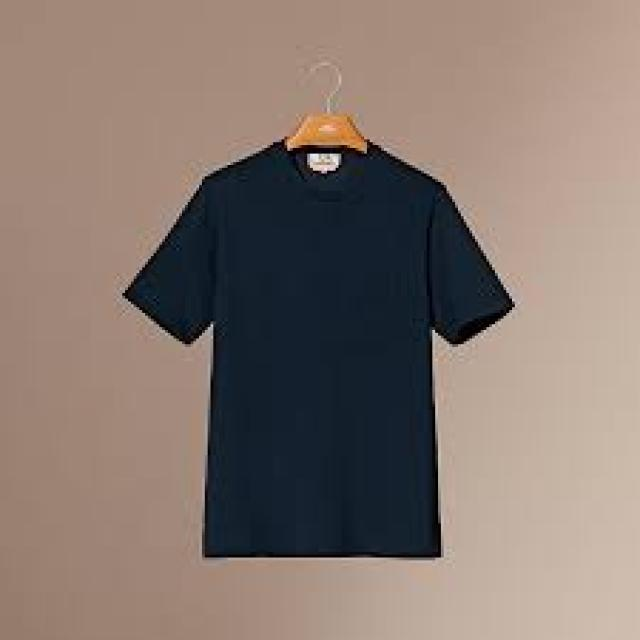shirt: (126, 139, 518, 555)
